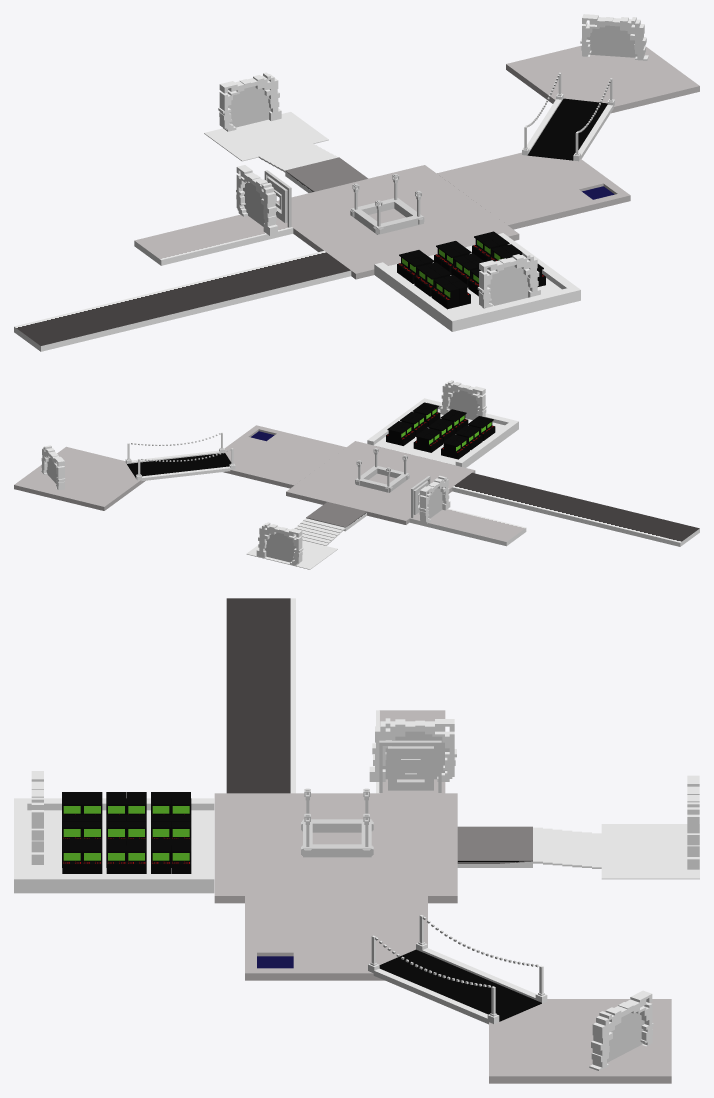
The model's file is HUB 2V2.fbx.
3 views of the same model, one above another, from view 1: azimuth 30°, elevation 25°; view 2: azimuth 150°, elevation 25°; view 3: azimuth 270°, elevation 25° (orthographic). The views are drawn at different scales.
Parts seen in each view (by area): view 1: Dice Boss Floor, Labyrinth, Central Hall, Hub Entry, Arcade Boss Floor, Plank Bridge, Reception, ArkV2.2, ArkV2.003, ArkV2.001, ArkV2, Bridge (+4 smaller); view 2: Dice Boss Floor, Labyrinth, Central Hall, Hub Entry, Arcade Boss Floor, Plank Bridge, Bridge, Reception, ArkV2.2, ArkV2.003, ArkV2.001, Veil.001 (+3 smaller); view 3: Dice Boss Floor, Central Hall, Labyrinth, Hub Entry, Arcade Boss Floor, Plank Bridge, Bridge, Reception, ArkV2.001, ArkV2, Dong Dong, ArkV2.2 (+4 smaller).
Part boxes in pixels (<box>): Dice Boss Floor: <box>437,46,699,229</box>; Labyrinth: <box>14,214,351,351</box>; Central Hall: <box>276,165,519,279</box>; Hub Entry: <box>204,112,368,192</box>; Arcade Boss Floor: <box>374,233,580,331</box>; Plank Bridge: <box>527,98,607,160</box>; Reception: <box>350,174,424,234</box>; ArkV2.2: <box>218,72,281,131</box>; ArkV2.003: <box>477,251,540,308</box>; ArkV2.001: <box>236,165,277,235</box>; ArkV2: <box>580,14,648,60</box>; Bridge: <box>522,72,614,161</box>; Dice Boss Floor: <box>14,425,346,510</box>; Labyrinth: <box>409,473,699,546</box>; Central Hall: <box>286,441,475,524</box>; Hub Entry: <box>246,502,366,569</box>; Arcade Boss Floor: <box>367,398,518,467</box>; Plank Bridge: <box>127,453,231,477</box>; Bridge: <box>125,432,235,481</box>; Reception: <box>355,448,409,492</box>; ArkV2.2: <box>256,522,303,565</box>; ArkV2.003: <box>440,380,486,417</box>; ArkV2.001: <box>419,475,450,523</box>; Veil.001: <box>265,532,296,562</box>; Dice Boss Floor: <box>245,896,671,1083</box>; Central Hall: <box>214,793,457,903</box>; Labyrinth: <box>226,598,445,793</box>; Hub Entry: <box>457,824,699,879</box>; Arcade Boss Floor: <box>14,798,214,893</box>; Plank Bridge: <box>379,949,541,1021</box>; Bridge: <box>368,915,547,1024</box>; Reception: <box>301,788,373,857</box>; ArkV2.001: <box>369,718,456,781</box>; ArkV2: <box>589,990,653,1070</box>; Dong Dong: <box>388,746,433,790</box>; ArkV2.2: <box>687,775,699,869</box>.
Bounding box in the file's own units: 23043 × 1509 × 13968.
